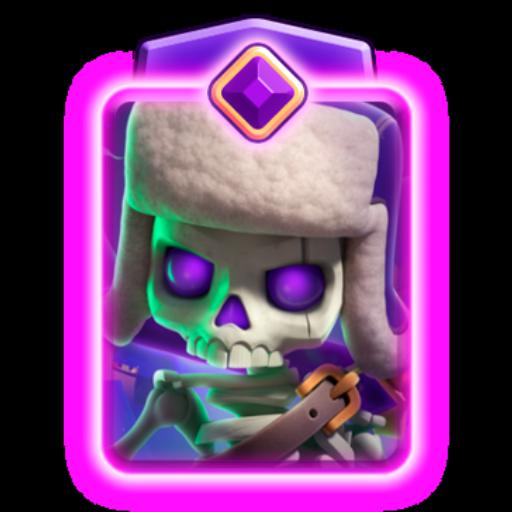skeletons-evo: (89, 92, 415, 470)
